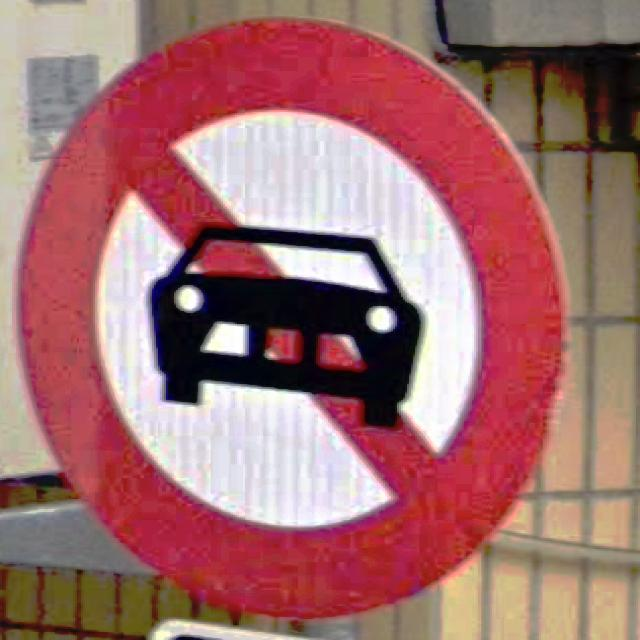nocar: (18, 21, 569, 622)
